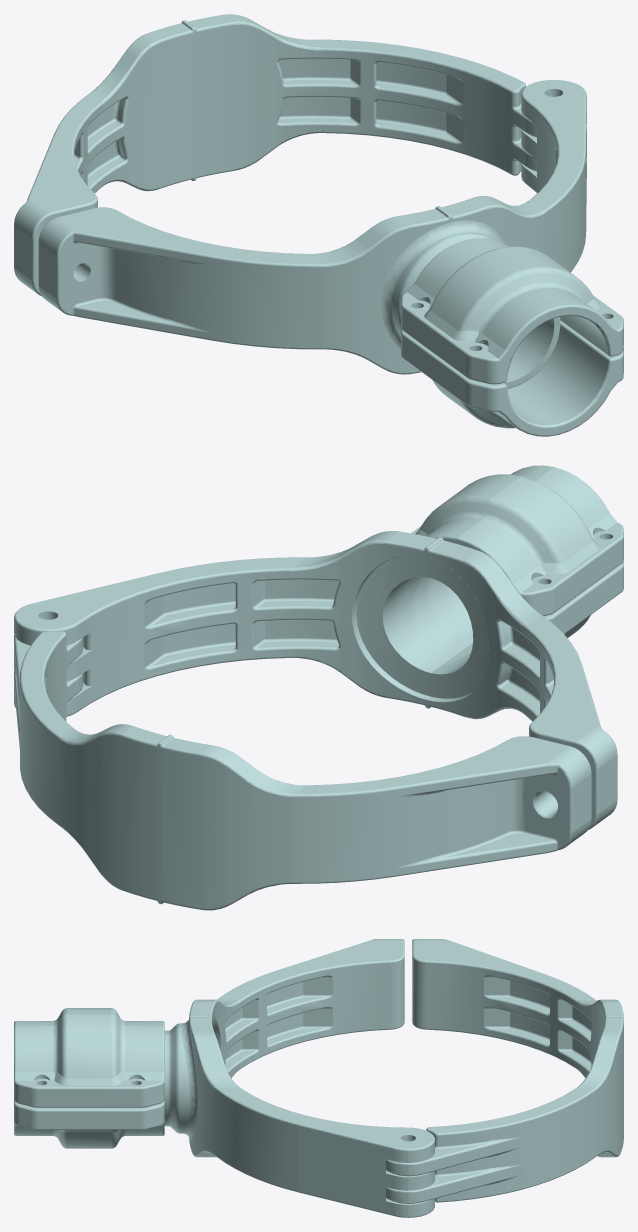
3 renders of one model, top to bottom at view 1: azimuth 30°, elevation 25°; view 2: azimuth 150°, elevation 25°; view 3: azimuth 270°, elevation 25°, orthographic. The views are drawn at different scales.
Bounding box in the file's own units: 271 × 74.3 × 322.
